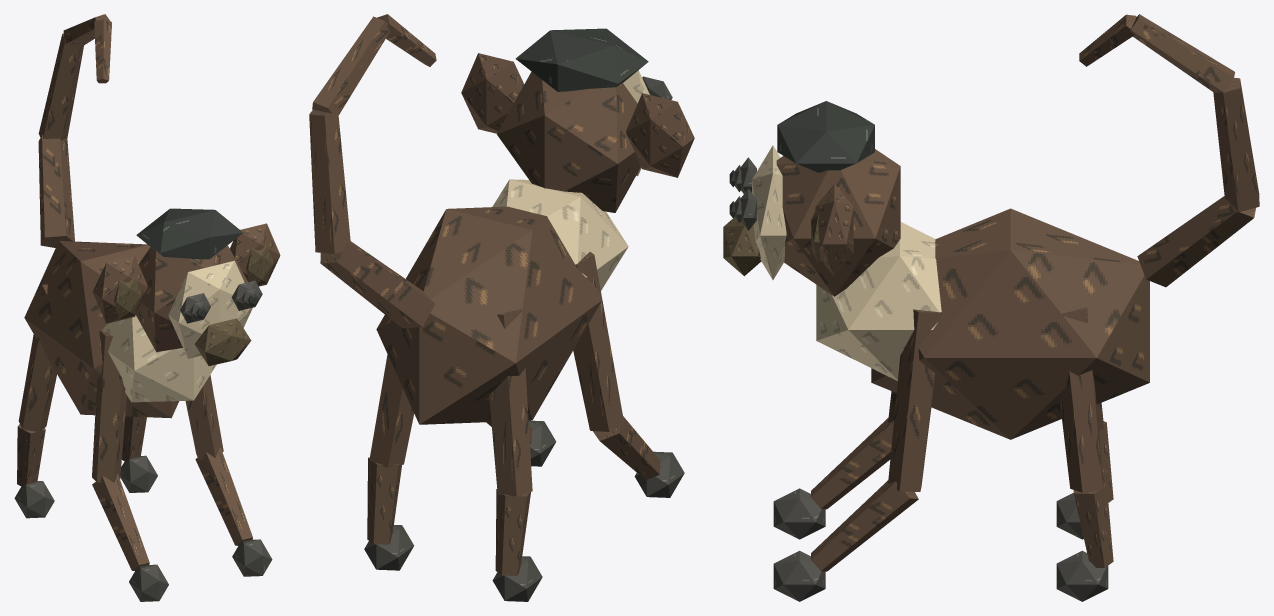
The model's file is animal-macaco-prego-v01.gltf.
3 views of the same model, side by side, from view 1: azimuth 30°, elevation 25°; view 2: azimuth 150°, elevation 25°; view 3: azimuth 270°, elevation 25° (orthographic). The views are drawn at different scales.
Visible parts, largest first — view 1: cabeca, corpo, cauda, perna-frente-esquerda, perna-frente-direita, perna-tras-esquerda, perna-tras-direita; view 2: corpo, cabeca, cauda, perna-tras-esquerda, perna-frente-esquerda, perna-tras-direita, perna-frente-direita; view 3: corpo, cabeca, cauda, perna-frente-direita, perna-tras-direita, perna-frente-esquerda, perna-tras-esquerda.
Part boxes in pixels (bbox=[...]): cabeca: bbox=[92, 208, 280, 365]; corpo: bbox=[24, 241, 216, 418]; cauda: bbox=[38, 14, 111, 247]; perna-frente-esquerda: bbox=[92, 330, 168, 601]; perna-frente-direita: bbox=[185, 375, 272, 576]; perna-tras-esquerda: bbox=[14, 284, 56, 518]; perna-tras-direita: bbox=[120, 416, 157, 492]; corpo: bbox=[376, 179, 628, 424]; cabeca: bbox=[461, 28, 694, 212]; cauda: bbox=[309, 14, 436, 328]; perna-tras-esquerda: bbox=[489, 309, 542, 601]; perna-frente-esquerda: bbox=[573, 252, 684, 497]; perna-tras-direita: bbox=[364, 354, 414, 570]; perna-frente-direita: bbox=[486, 420, 556, 466]; corpo: bbox=[816, 208, 1149, 439]; cabeca: bbox=[723, 101, 900, 296]; cauda: bbox=[1079, 14, 1259, 287]; perna-frente-direita: bbox=[773, 309, 942, 601]; perna-tras-direita: bbox=[1056, 307, 1113, 601]; perna-frente-esquerda: bbox=[773, 391, 896, 539]; perna-tras-esquerda: bbox=[1056, 403, 1113, 539].
Bounding box in the file's own units: 0.6216 × 1.54 × 1.31.
Materials: 1 (1 with a texture image).
